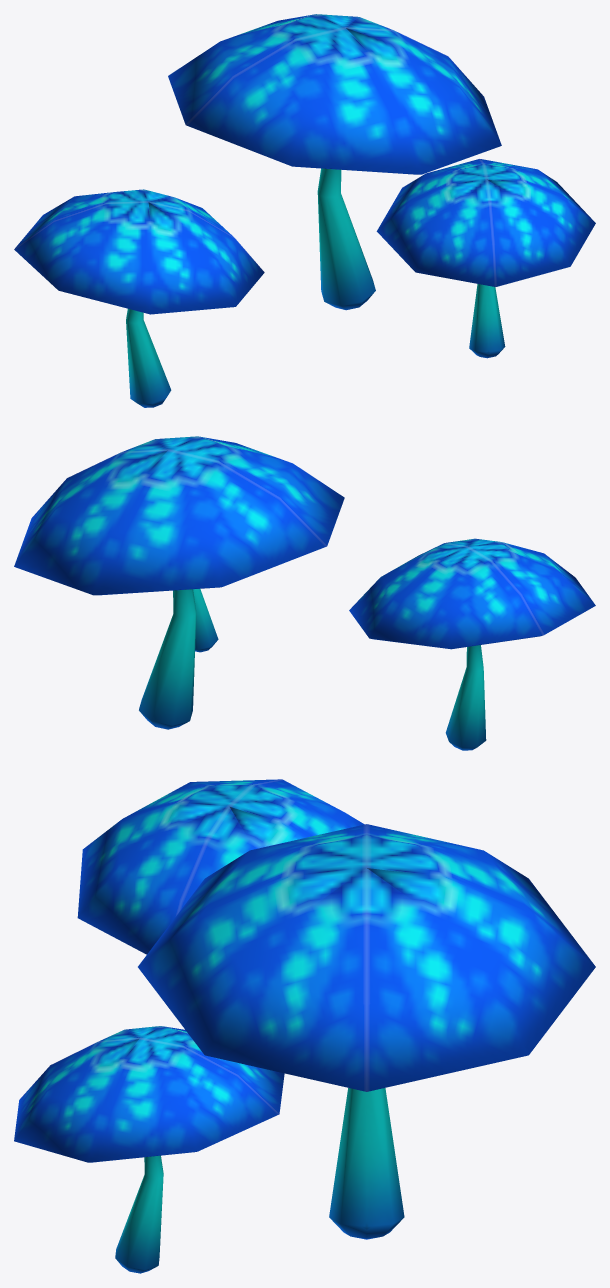
The model's file is Mushroom_02b.FBX.
3 views of the same model, one above another, from view 1: azimuth 30°, elevation 25°; view 2: azimuth 150°, elevation 25°; view 3: azimuth 270°, elevation 25° (orthographic). The views are drawn at different scales.
Visible parts, largest first — view 1: Mushroom_02b; view 2: Mushroom_02b; view 3: Mushroom_02b.
Boxes of the visible parts, x1,y1,x2,y2 form: Mushroom_02b: [14, 14, 595, 407]; Mushroom_02b: [14, 436, 595, 750]; Mushroom_02b: [14, 779, 595, 1273].
Size of the model in its own units: 166 by 87.31 by 125.
